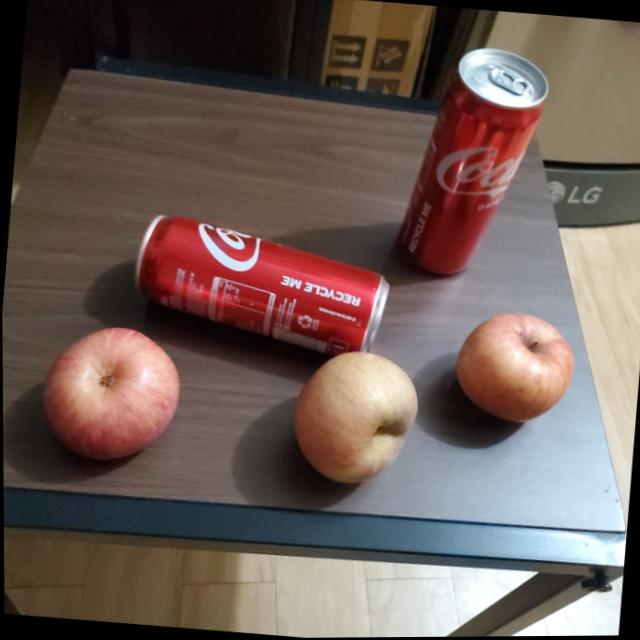apple: (33, 320, 180, 465), (288, 347, 422, 490), (451, 308, 580, 427)
coke: (388, 38, 555, 282), (130, 212, 395, 360)
